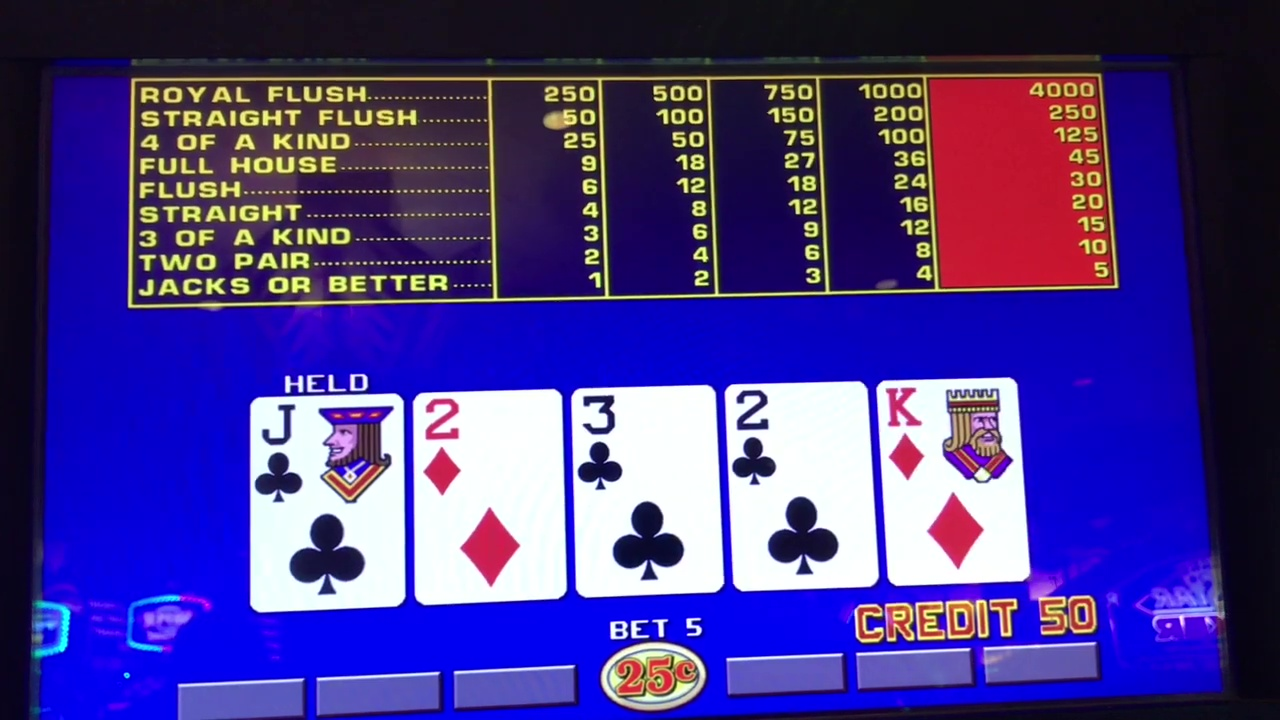C2: (735, 383, 863, 493)
C3: (577, 391, 719, 500)
CJ: (258, 400, 392, 510)
D2: (417, 393, 566, 504)
DK: (888, 380, 1020, 492)
